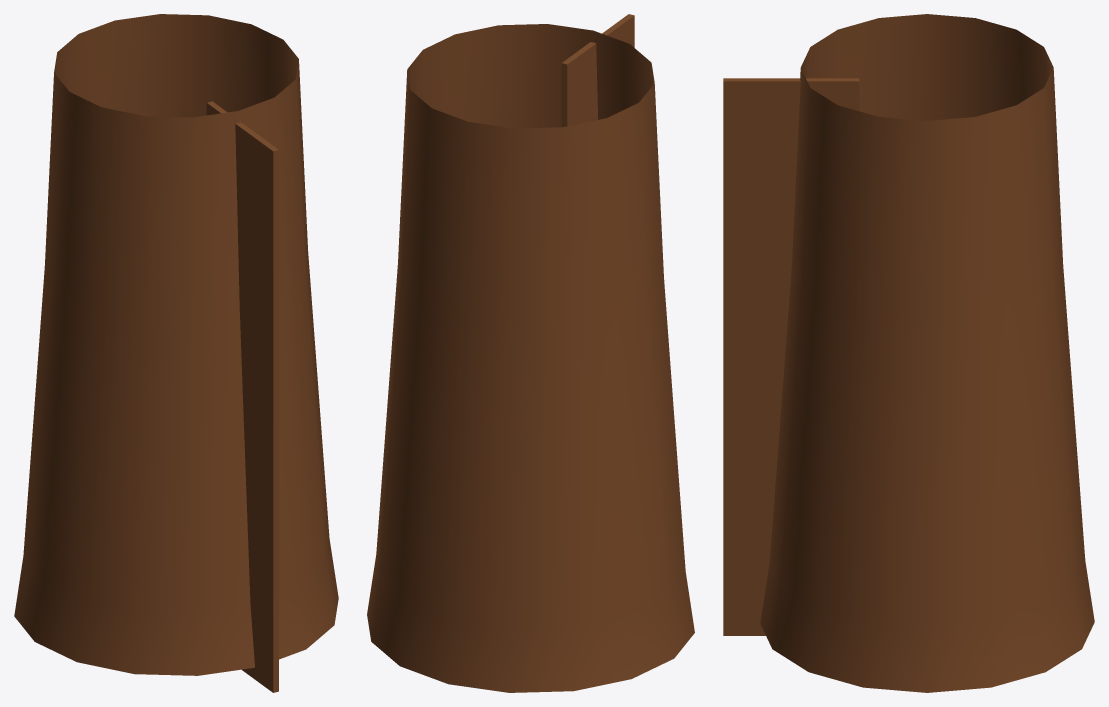
The model's file is hips.obj.
3 renders of one model, left to right at view 1: azimuth 30°, elevation 25°; view 2: azimuth 150°, elevation 25°; view 3: azimuth 270°, elevation 25°, orthographic. The views are drawn at different scales.
Parts seen in each view (by area): view 1: hips; view 2: hips; view 3: hips.
Boxes of the visible parts, <box> form: hips: <box>14,14,338,692</box>; hips: <box>367,14,694,692</box>; hips: <box>723,14,1094,692</box>.
Size of the model in its own units: 0.4732 by 0.8832 by 0.5246.
